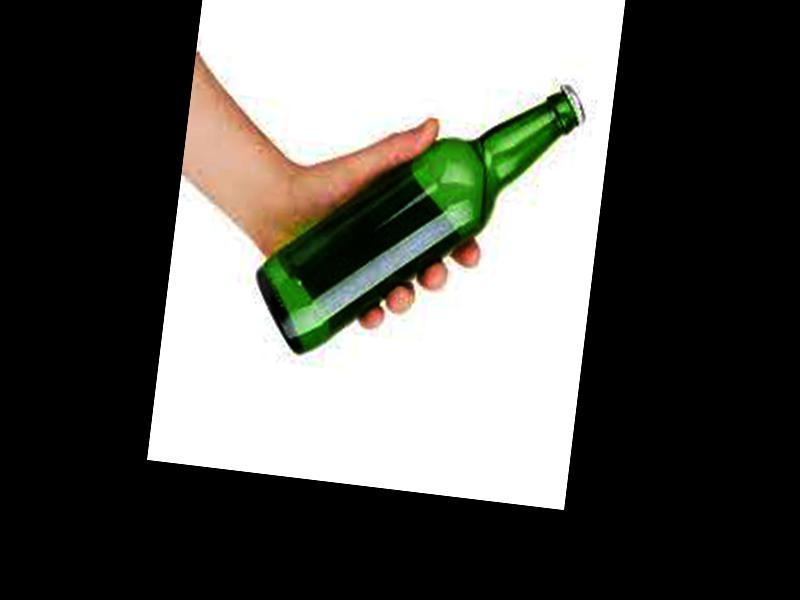Beer: (243, 50, 584, 381)
